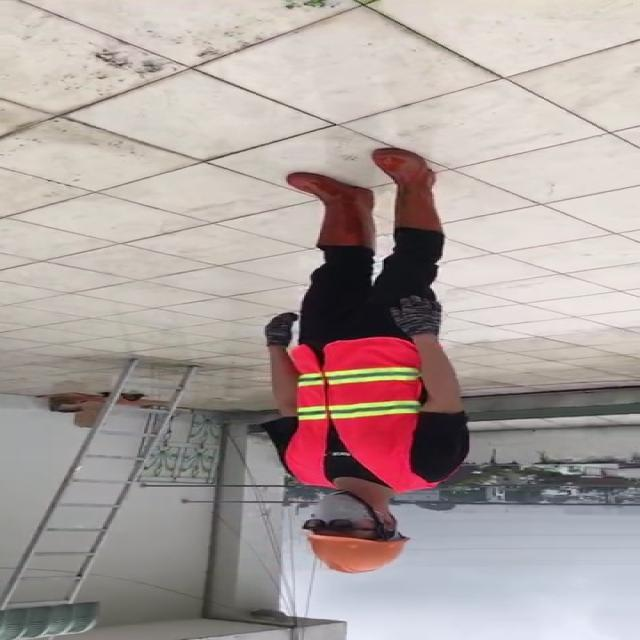gloves: (384, 295, 442, 337), (264, 308, 300, 352)
goggles: (300, 514, 364, 536)
